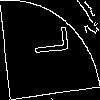L: (25, 25, 69, 57)
